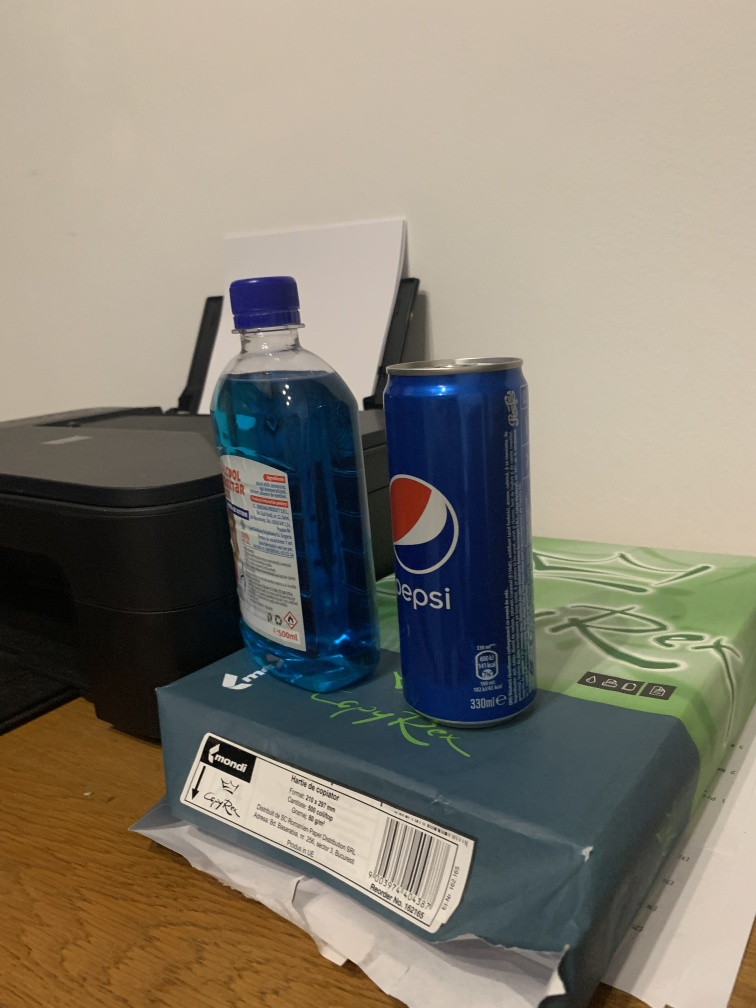pepsi: (380, 352, 544, 739)
